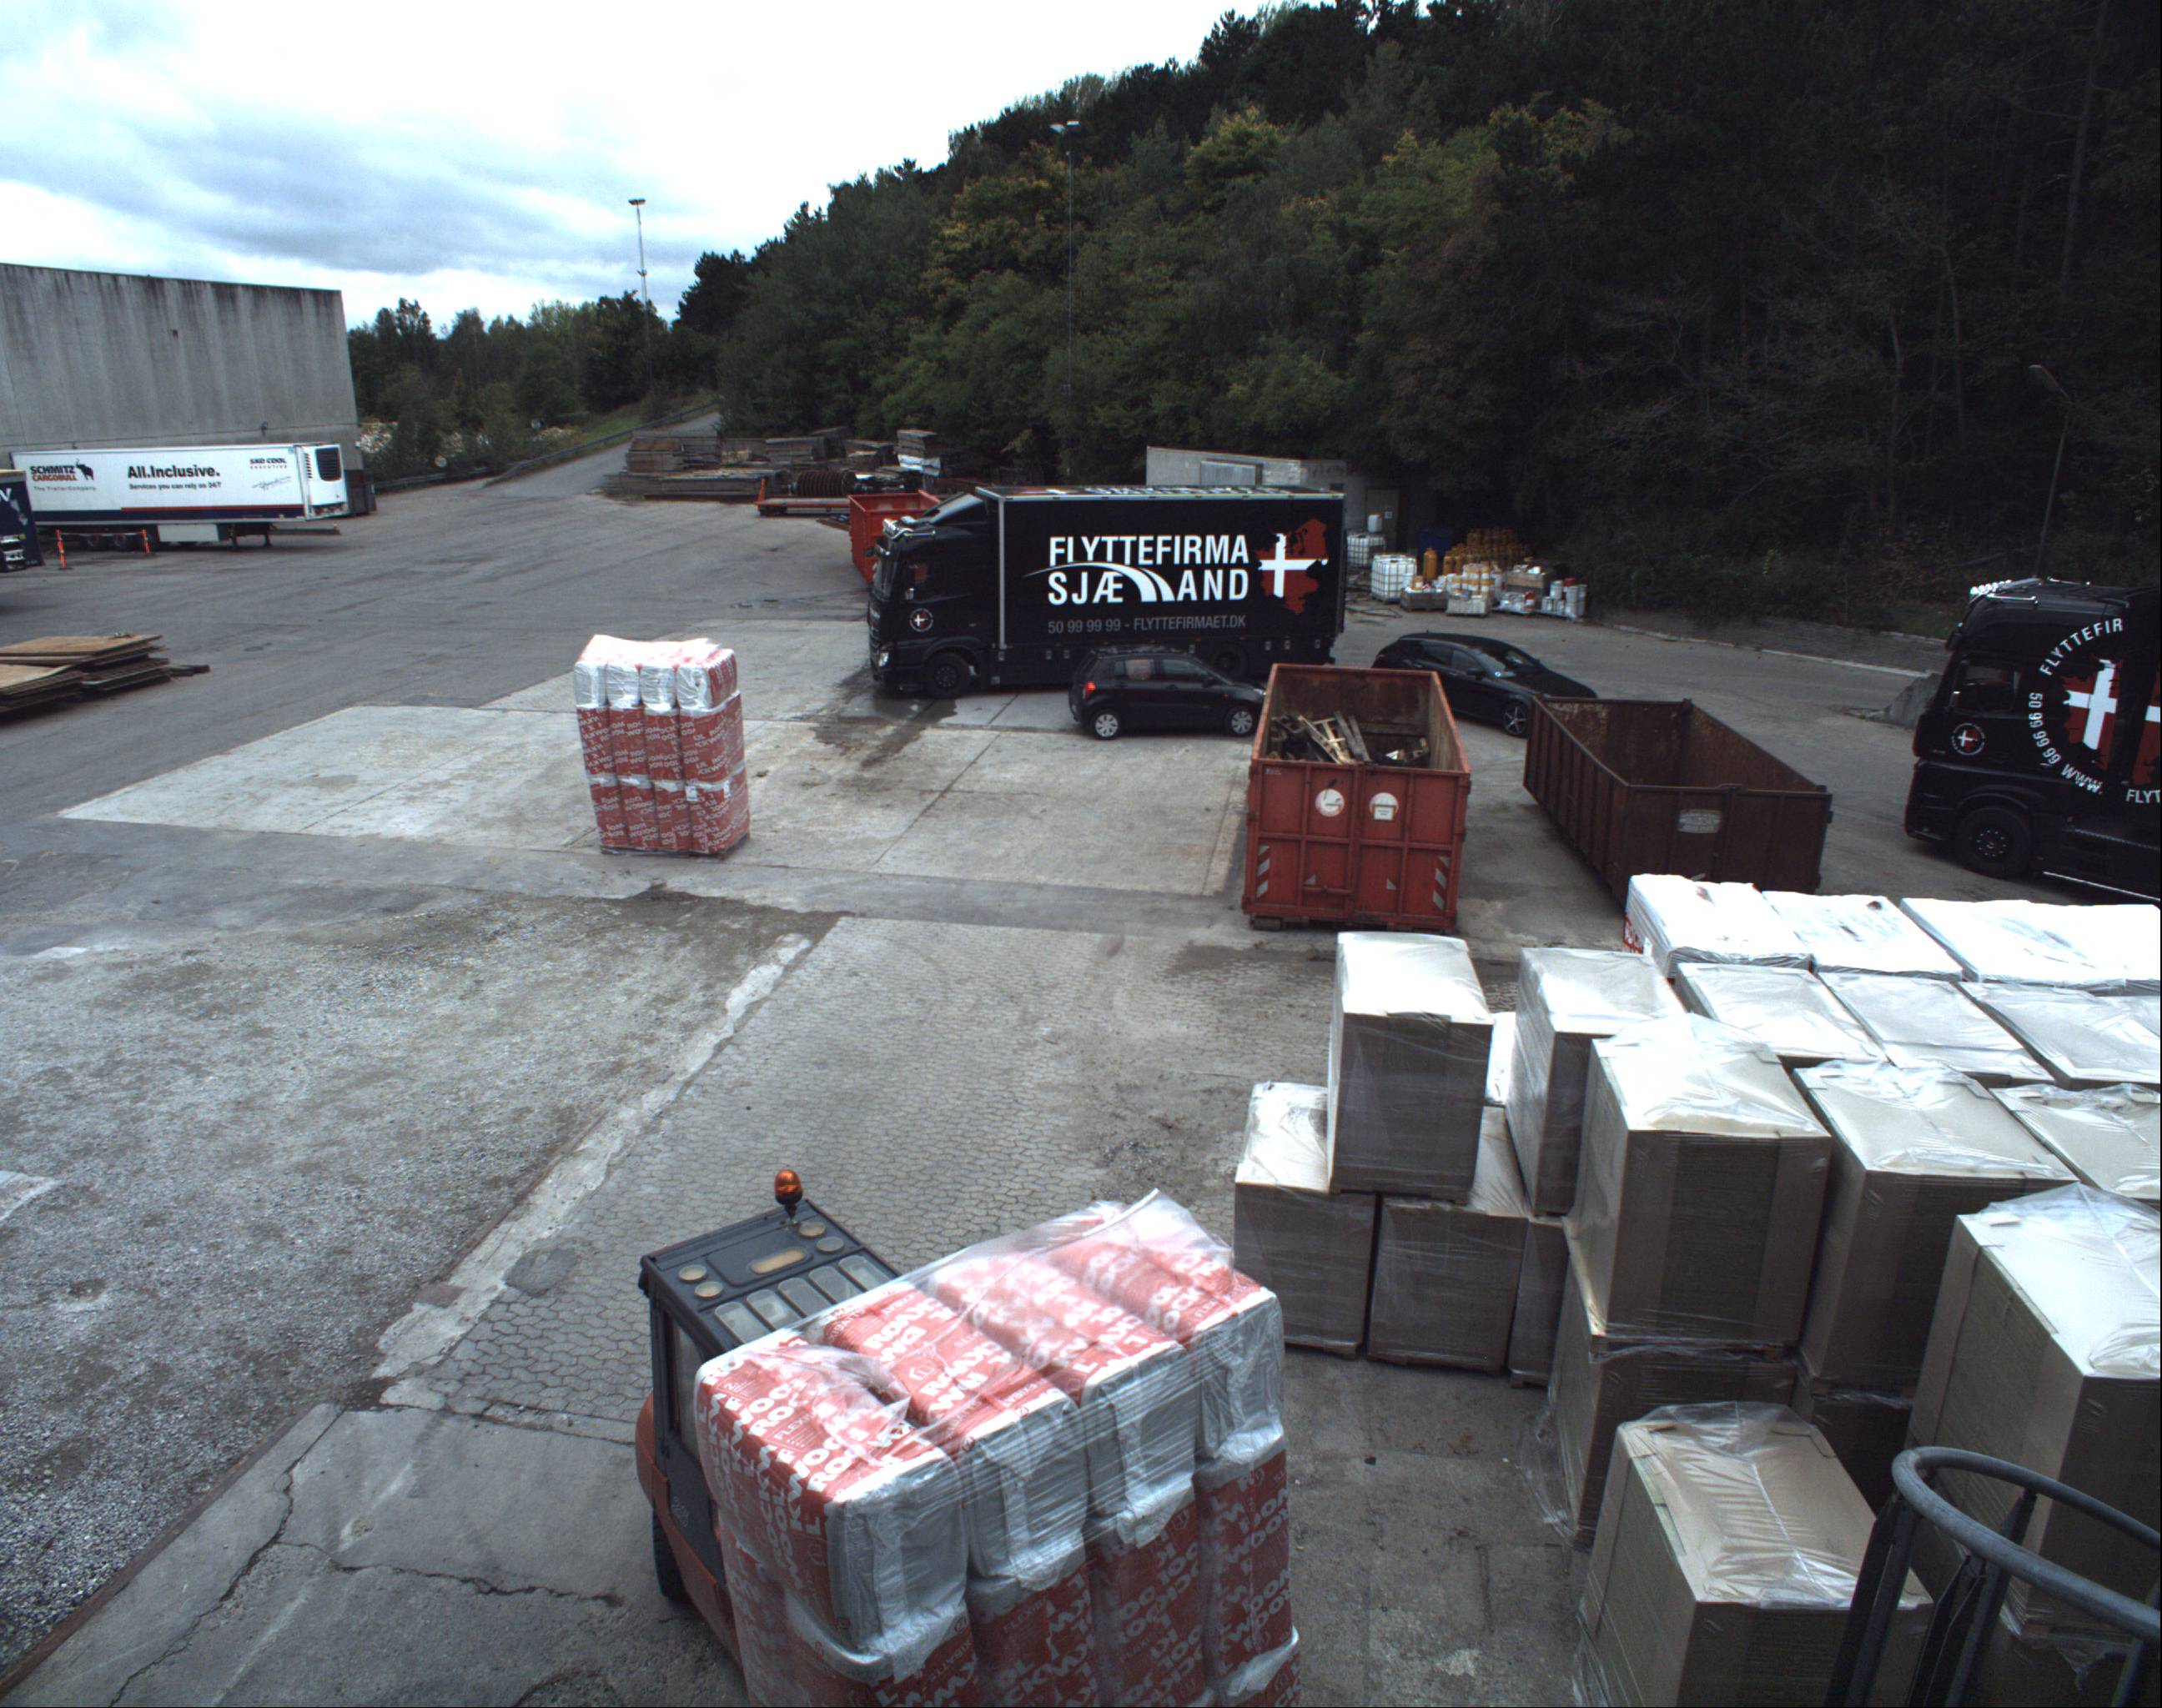rockwool_batts: (711, 1181, 1292, 1706), (579, 630, 751, 864)
